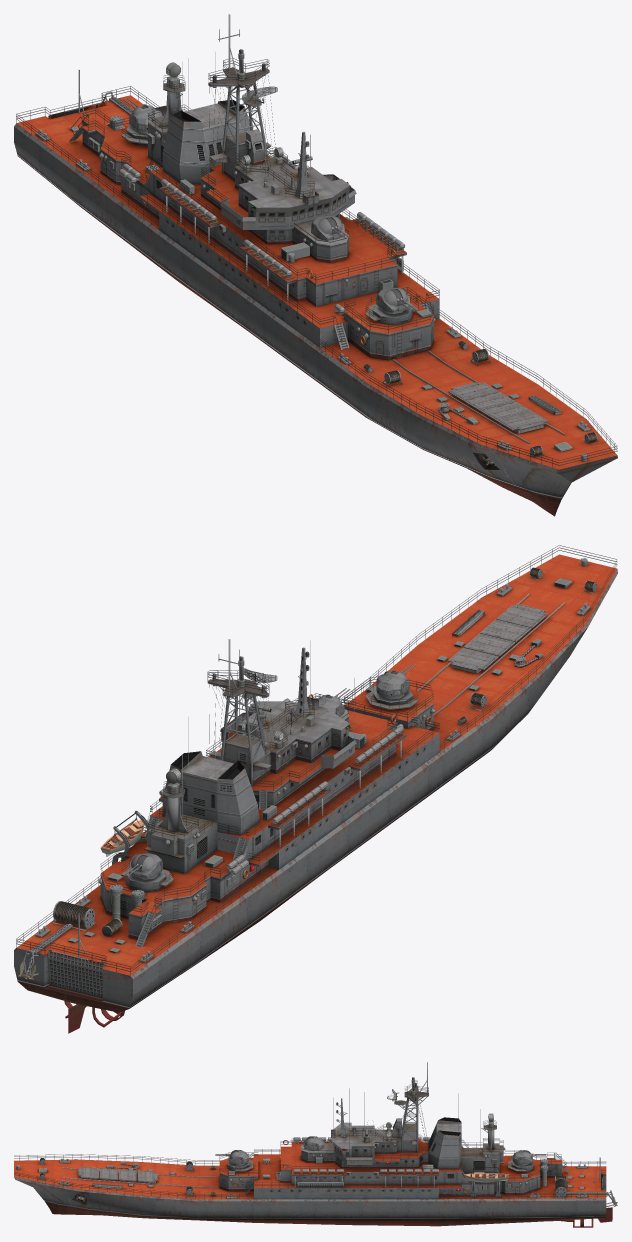
Rendered from warship.glb.
3 views of the same model, one above another, from view 1: azimuth 30°, elevation 25°; view 2: azimuth 150°, elevation 25°; view 3: azimuth 270°, elevation 25° (orthographic). The views are drawn at different scales.
Visible parts, largest first — view 1: ropucha_0, ropucha.001_1, ropucha.002_2; view 2: ropucha_0, ropucha.002_2, ropucha.003_3; view 3: ropucha_0, ropucha.001_1, ropucha.003_3, ropucha.002_2.
Boxes of the visible parts, x1,y1,x2,y2 form: ropucha_0: [14, 14, 617, 516]; ropucha.001_1: [311, 215, 350, 241]; ropucha.002_2: [376, 287, 415, 312]; ropucha_0: [14, 545, 617, 1033]; ropucha.002_2: [376, 664, 415, 697]; ropucha.003_3: [123, 853, 162, 878]; ropucha_0: [14, 1062, 617, 1227]; ropucha.001_1: [290, 1136, 324, 1150]; ropucha.003_3: [512, 1150, 546, 1163]; ropucha.002_2: [215, 1150, 248, 1163].
Bounding box in the file's own units: 2.29 × 4.88 × 16.68.
Materials: 4 (4 with a texture image).
